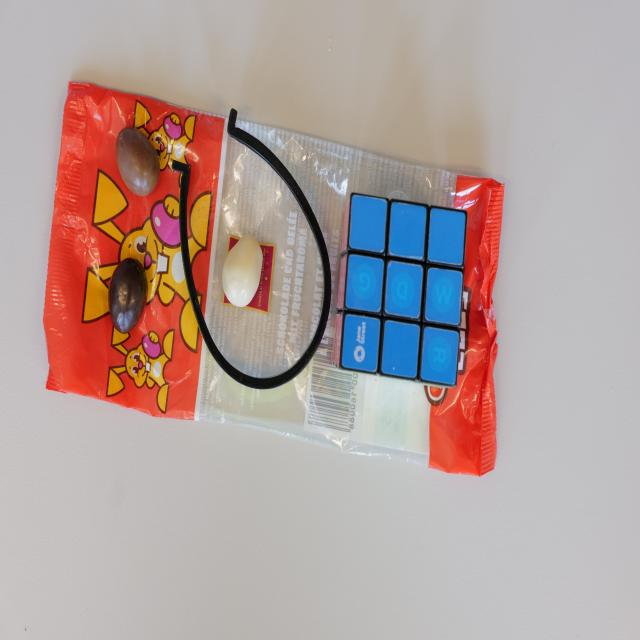Jelly_Black: (106, 257, 149, 333)
Jelly_Milk: (115, 126, 162, 198)
Jelly_White: (218, 234, 268, 308)
